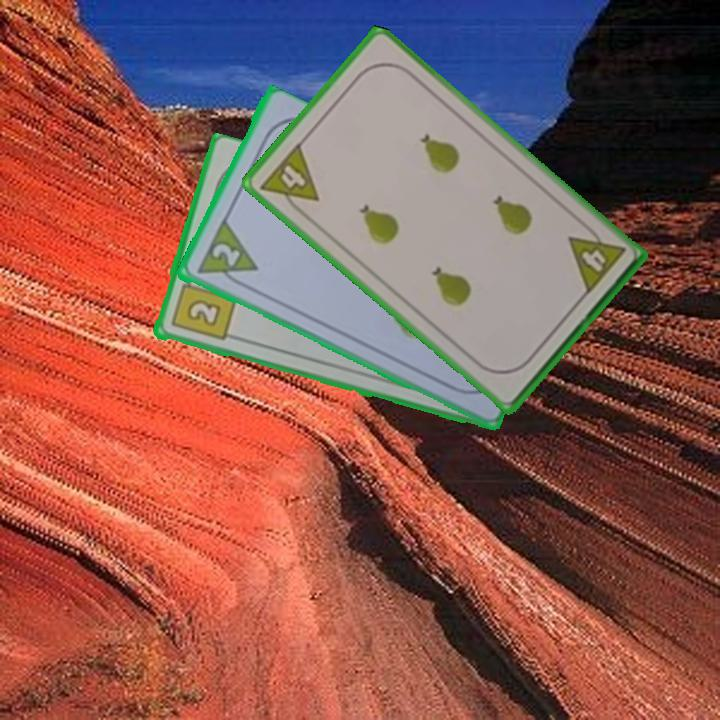2b: (167, 271, 238, 344)
2p: (207, 239, 243, 270)
4p: (256, 139, 322, 220), (564, 219, 628, 298)
